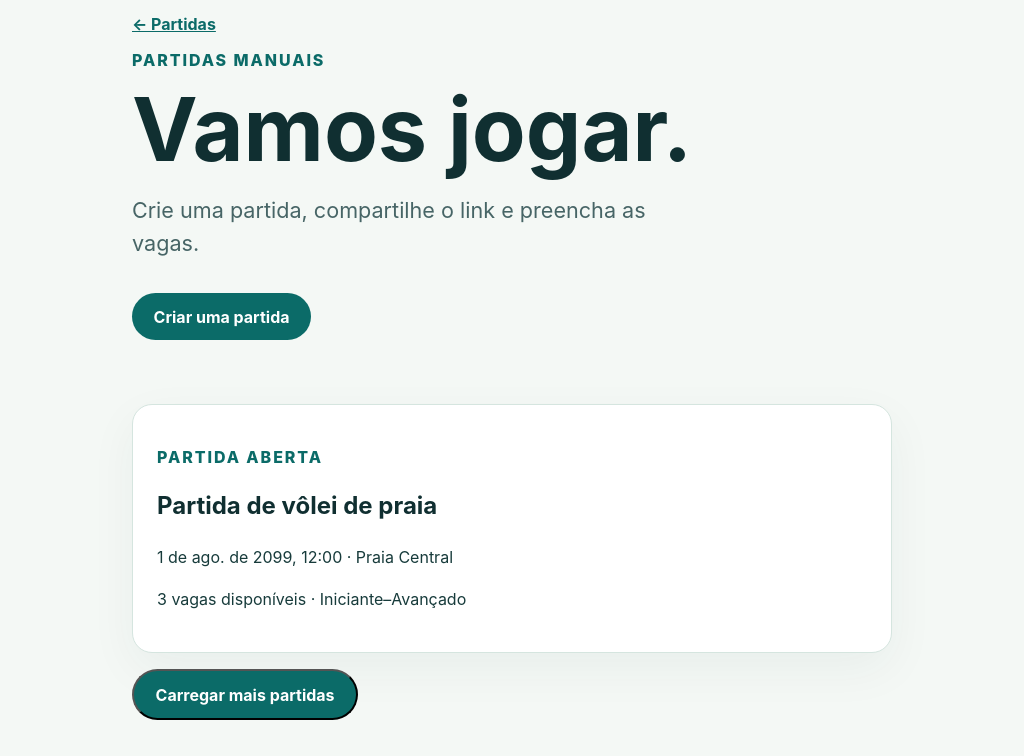
it: GamesPage › loads the next page without losing the current games
(page scrolled)
expect the link named "Praia Central" is shown: met, box [132,404,892,653]
Step 1. Click the button "Carregar mais partidas" → (245, 695), box [132,669,358,720]
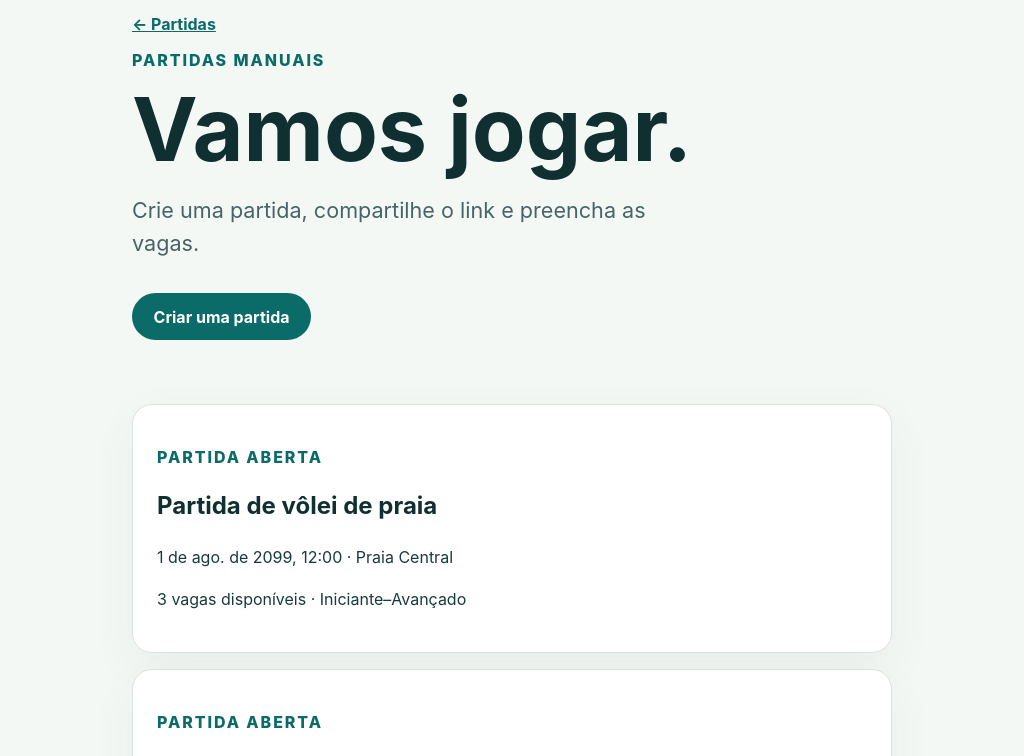
expect the link named "Praia Central" is shown: met, box [132,404,892,653]
expect the button "Carregar mais partidas" is gone: met
